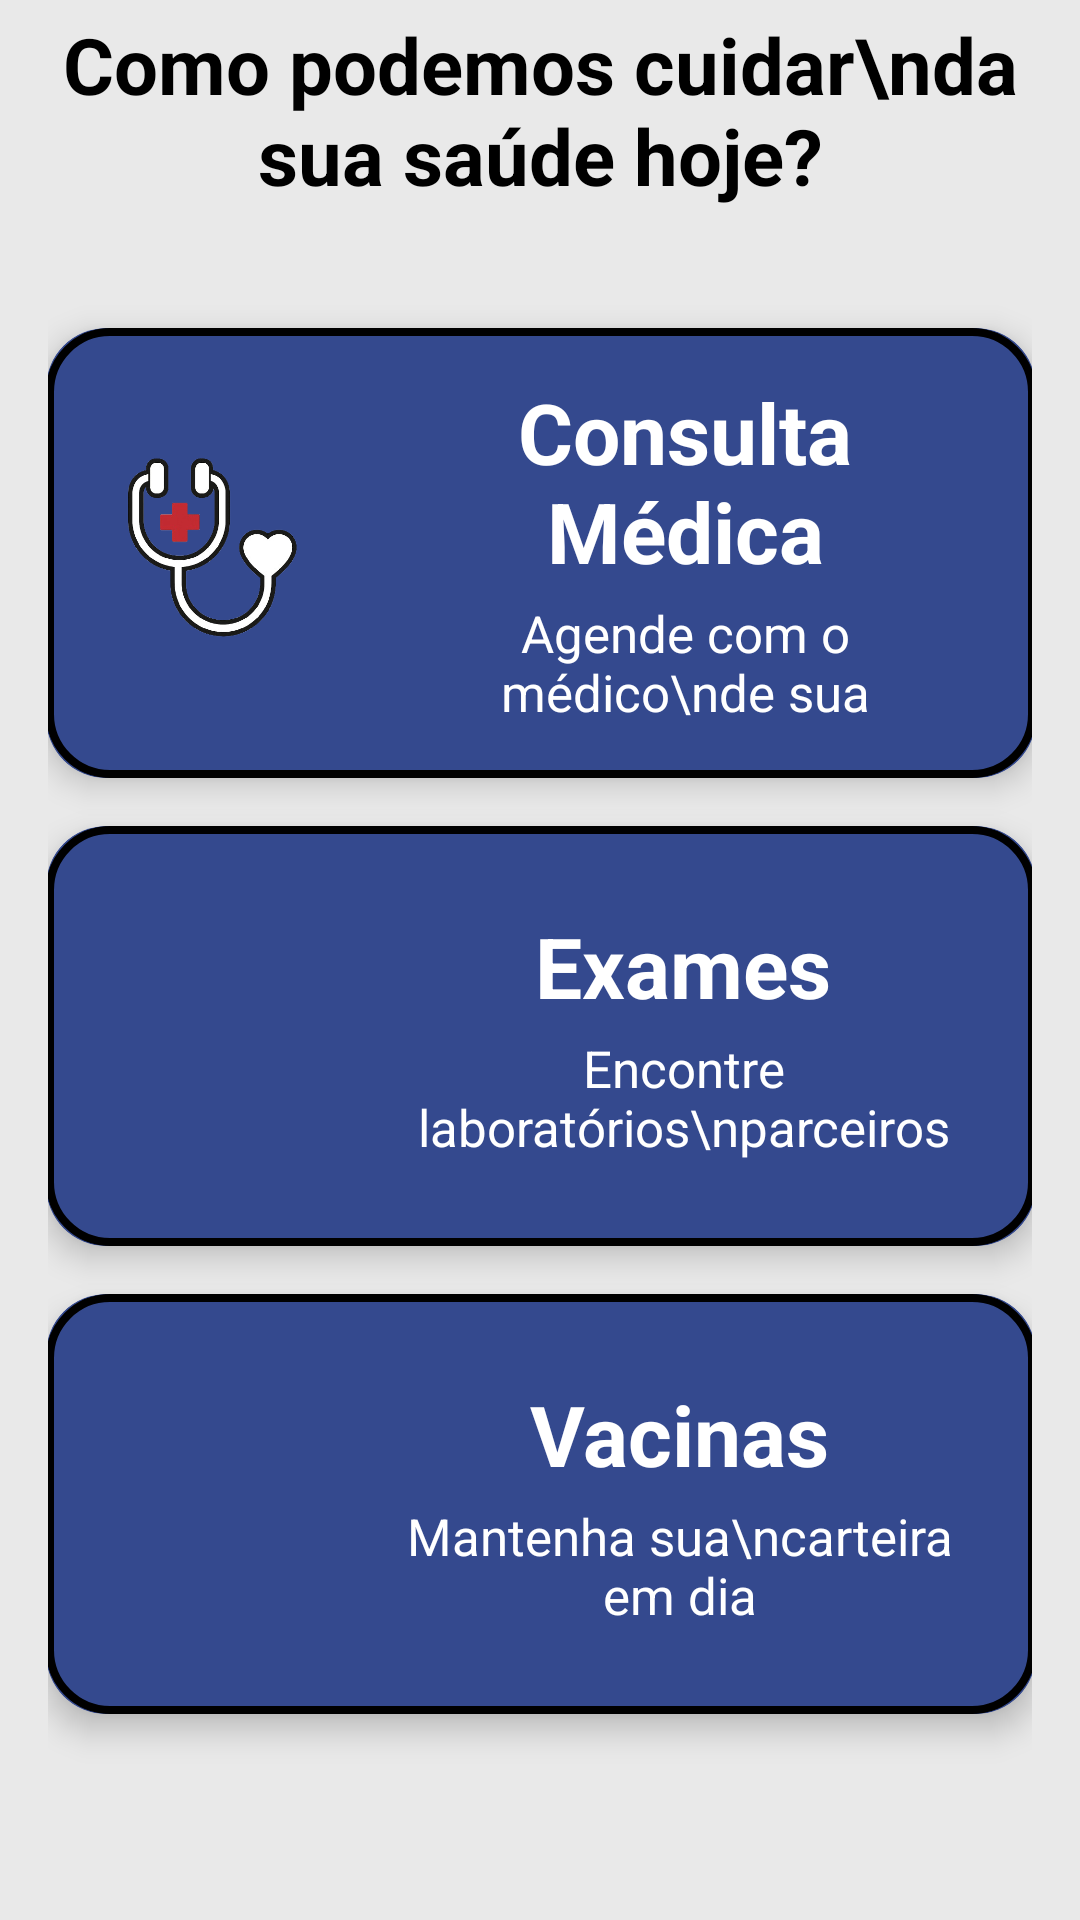

Icons on this 1080 x 1920 Android screen, each with its box as (x1, y1, x2, y2):
Ícone de consulta: (128, 458, 297, 637)
